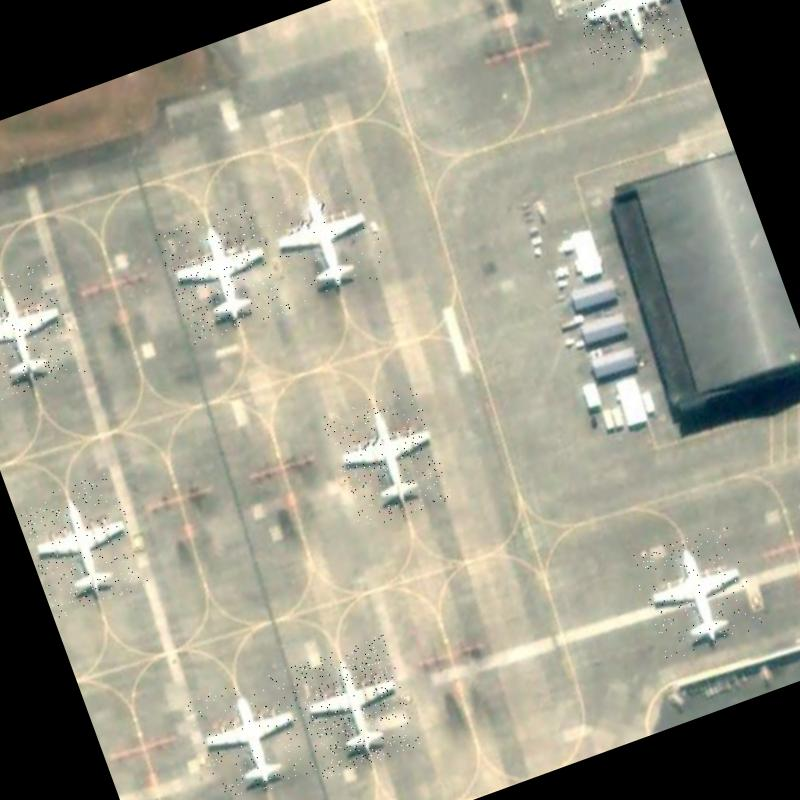A9: (251, 166, 394, 314), (284, 633, 423, 780), (154, 198, 292, 344), (320, 382, 454, 532), (16, 470, 151, 618), (626, 520, 763, 662), (184, 667, 319, 800), (0, 258, 86, 407), (554, 0, 690, 67)
